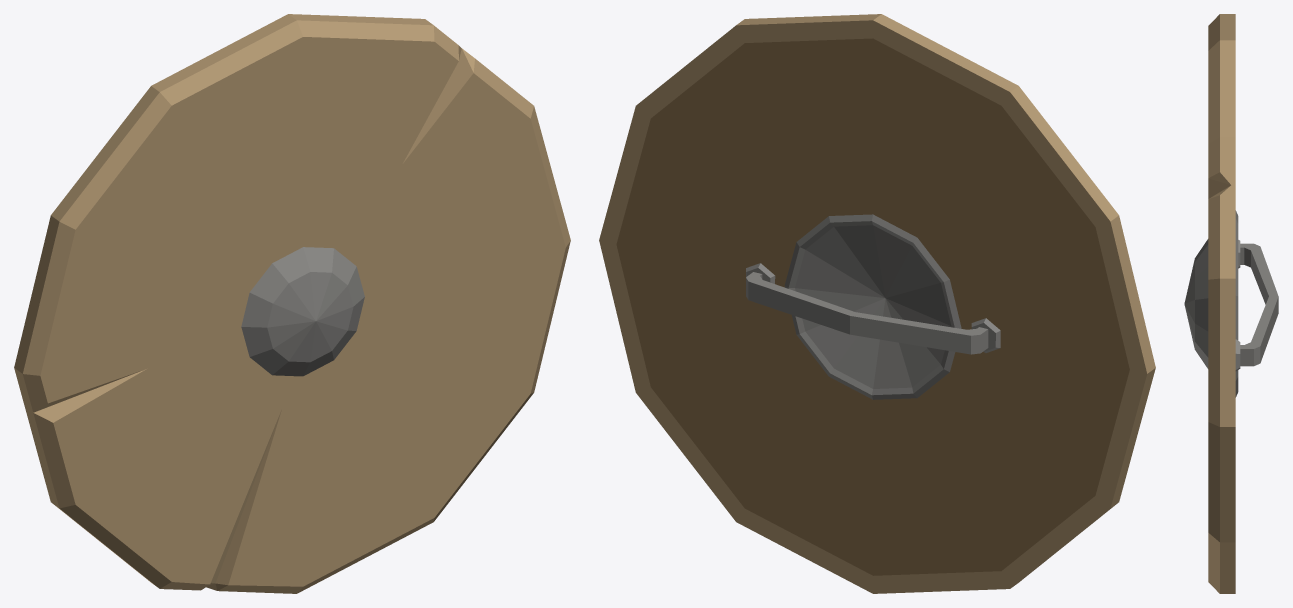
File: SM_pwe_slavic_shield_04.fbx
3 views of the same model, side by side, from view 1: azimuth 30°, elevation 25°; view 2: azimuth 150°, elevation 25°; view 3: azimuth 270°, elevation 25° (orthographic). The views are drawn at different scales.
Visible parts, largest first — view 1: SM_pwe_slavic_shield_04; view 2: SM_pwe_slavic_shield_04; view 3: SM_pwe_slavic_shield_04.
Boxes of the visible parts, left/top/right/bottom form: SM_pwe_slavic_shield_04: left=14, top=14, right=570, bottom=593; SM_pwe_slavic_shield_04: left=599, top=14, right=1155, bottom=593; SM_pwe_slavic_shield_04: left=1184, top=14, right=1278, bottom=593.
Size of the model in its own units: 53.71 by 53.71 by 8.69.
